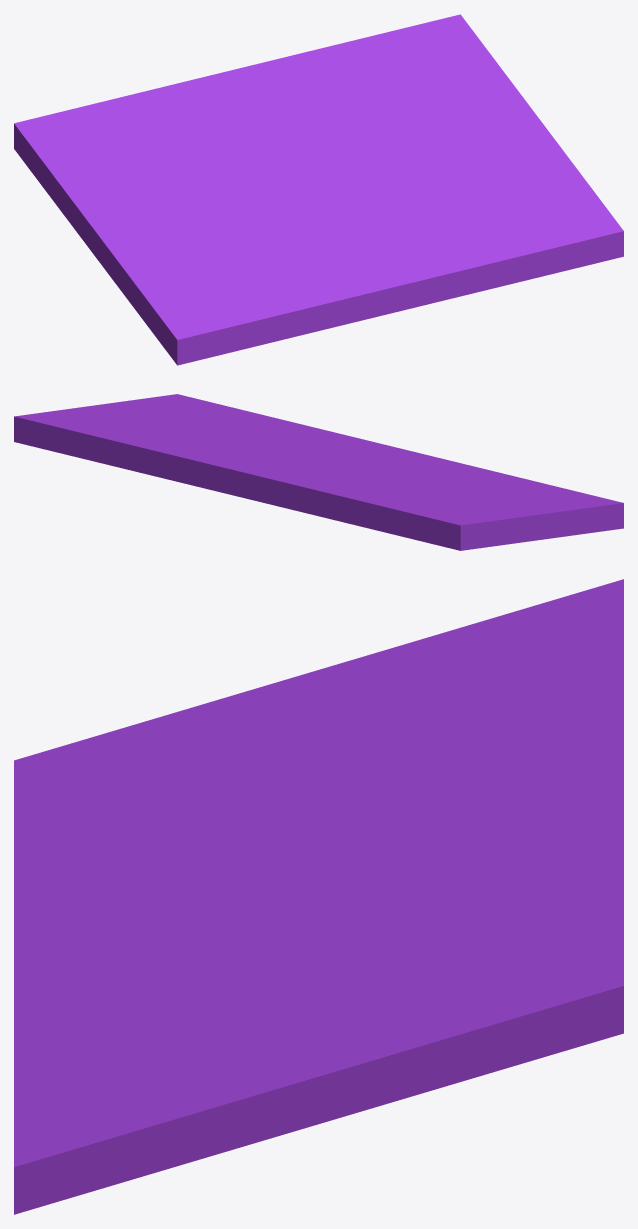
The model's file is Window_139_chunks.fbx.
3 renders of one model, top to bottom at view 1: azimuth 30°, elevation 25°; view 2: azimuth 150°, elevation 25°; view 3: azimuth 270°, elevation 25°, orthographic. The views are drawn at different scales.
Visible parts, largest first — view 1: Window_139_2, Window_139_1, Window_139_5, Window_139_3, Window_139_4, Window_139_6; view 2: Window_139_2, Window_139_1, Window_139_5, Window_139_3, Window_139_6, Window_139_4; view 3: Window_139_1, Window_139_2, Window_139_5, Window_139_3, Window_139_6, Window_139_4.
Part boxes in pixels (box(x1,y1,x2,y2)): Window_139_2: box(14, 68, 323, 340); Window_139_1: box(240, 14, 618, 224); Window_139_5: box(159, 181, 365, 365); Window_139_3: box(339, 183, 623, 293); Window_139_4: box(225, 262, 471, 353); Window_139_6: box(359, 231, 512, 286); Window_139_2: box(234, 459, 612, 550); Window_139_1: box(14, 394, 319, 496); Window_139_5: box(313, 452, 623, 530); Window_139_3: box(173, 394, 353, 455); Window_139_6: box(289, 421, 398, 456); Window_139_4: box(377, 443, 529, 480); Window_139_1: box(31, 785, 623, 1203); Window_139_2: box(56, 579, 623, 878); Window_139_5: box(14, 748, 306, 924); Window_139_3: box(14, 893, 292, 1214); Window_139_6: box(14, 921, 163, 1065); Window_139_4: box(14, 844, 94, 985).
Bounding box in the file's own units: 1838 × 482 × 1165.
